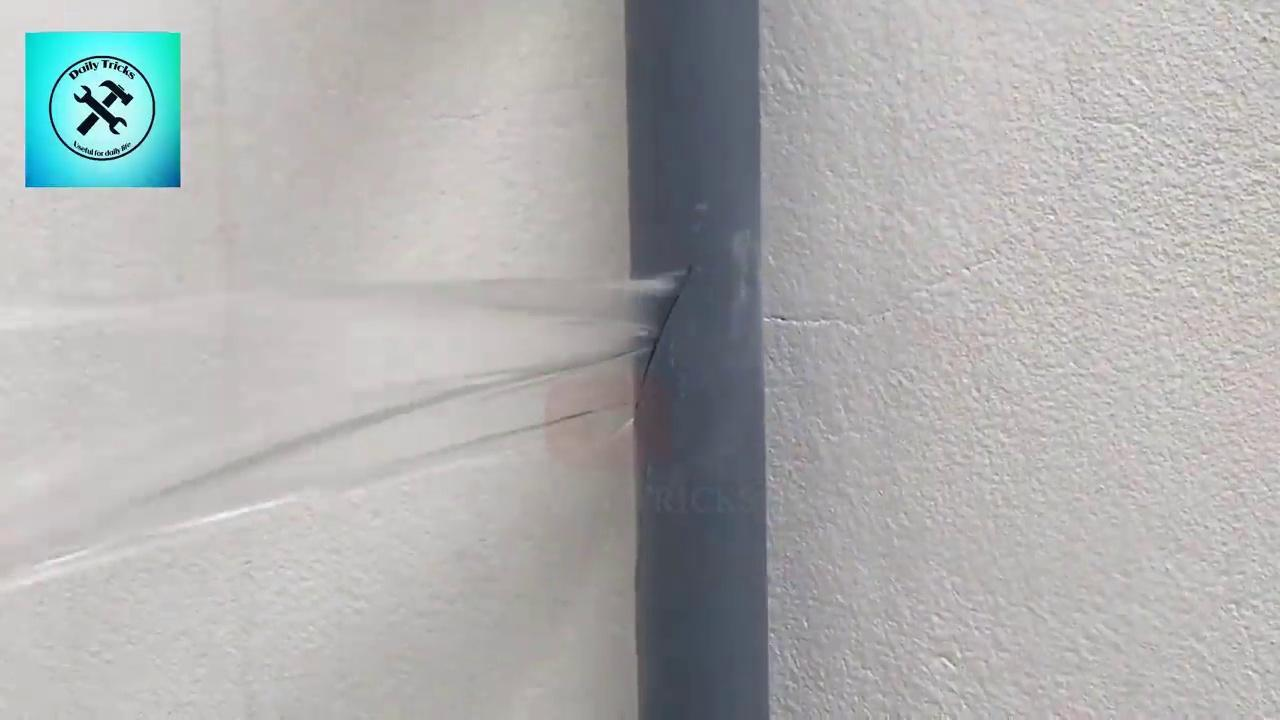pipe burst: (0, 257, 704, 596)
